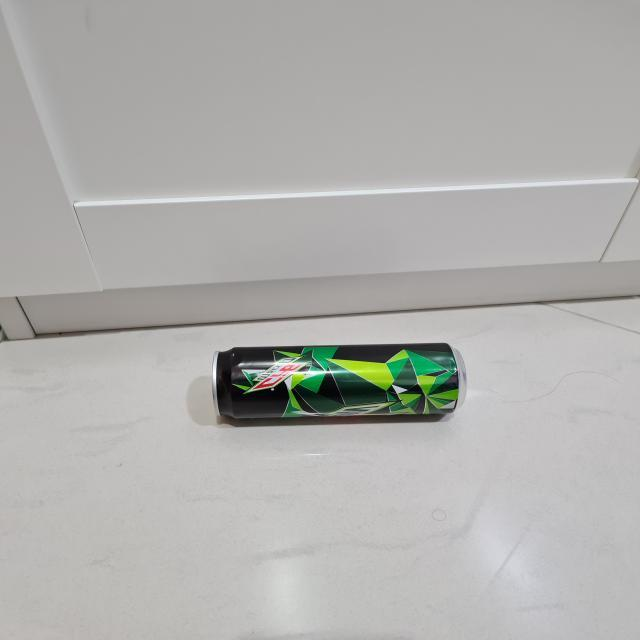can: (209, 343, 464, 426)
